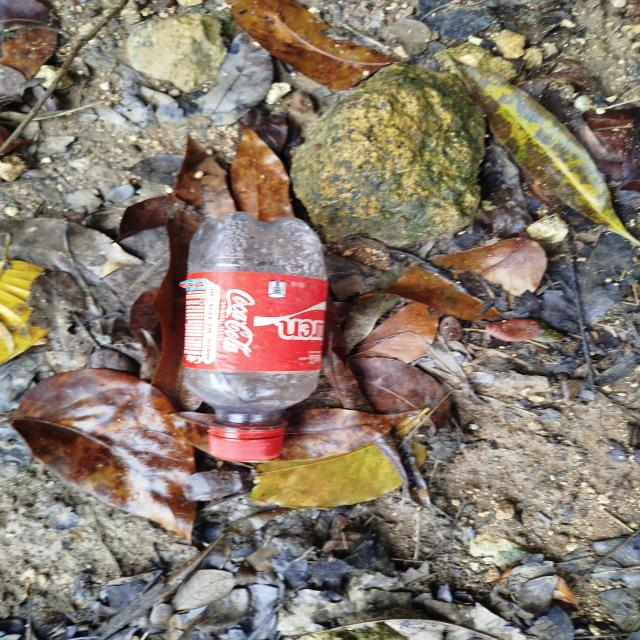plastic: (166, 207, 339, 468)
